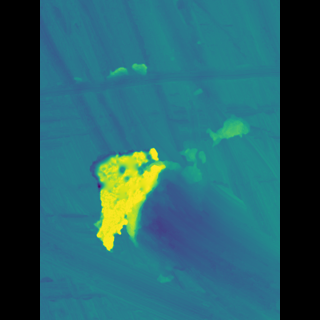Loch: (101, 137, 174, 260), (69, 63, 250, 100)
